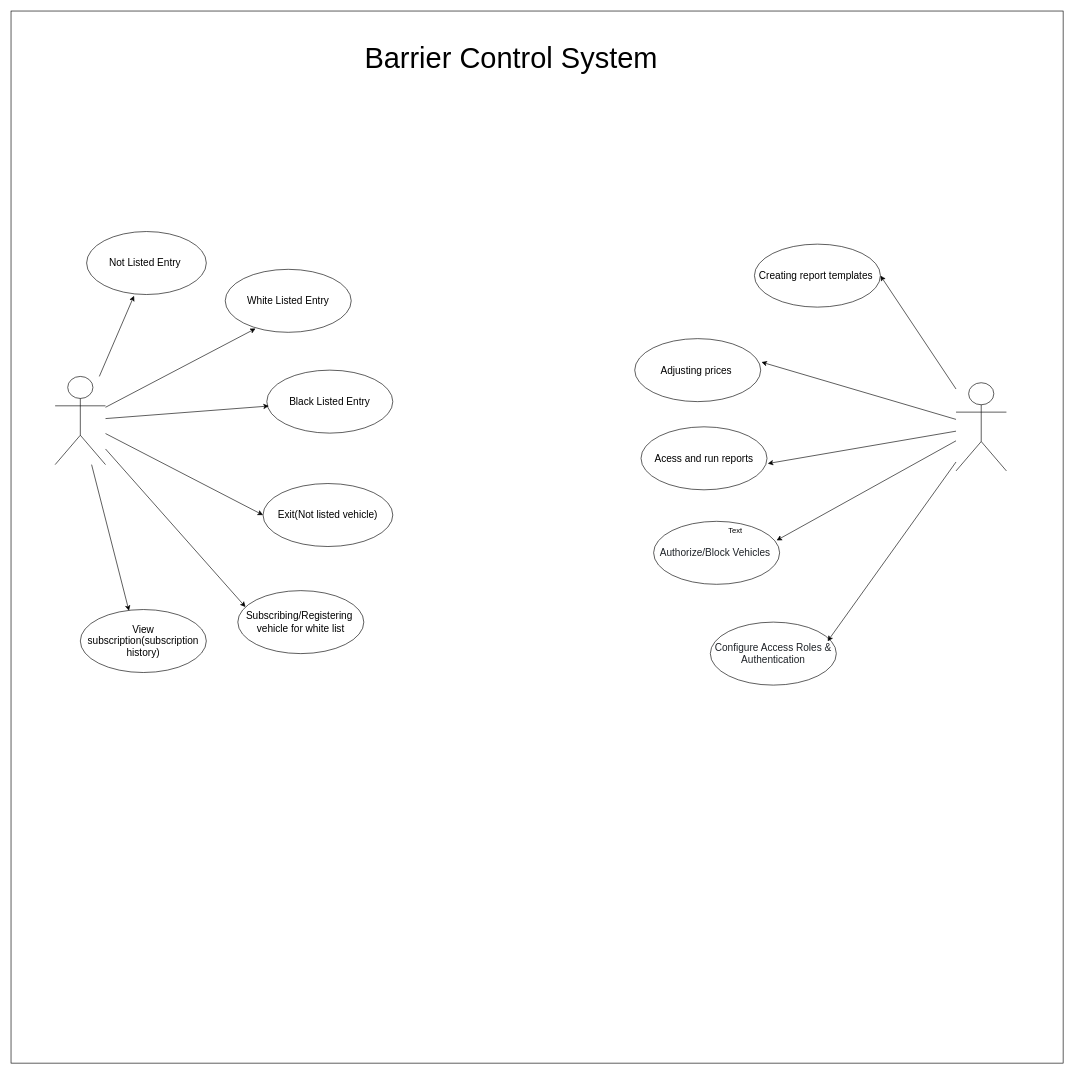
Image size: 1074x1074. Some labels were removed from this diagram. Here are the shapes that lost their labels. From the top down, the centre of each, then its label:
At point (80, 420): "Driver".
At point (980, 426): "Admin".
